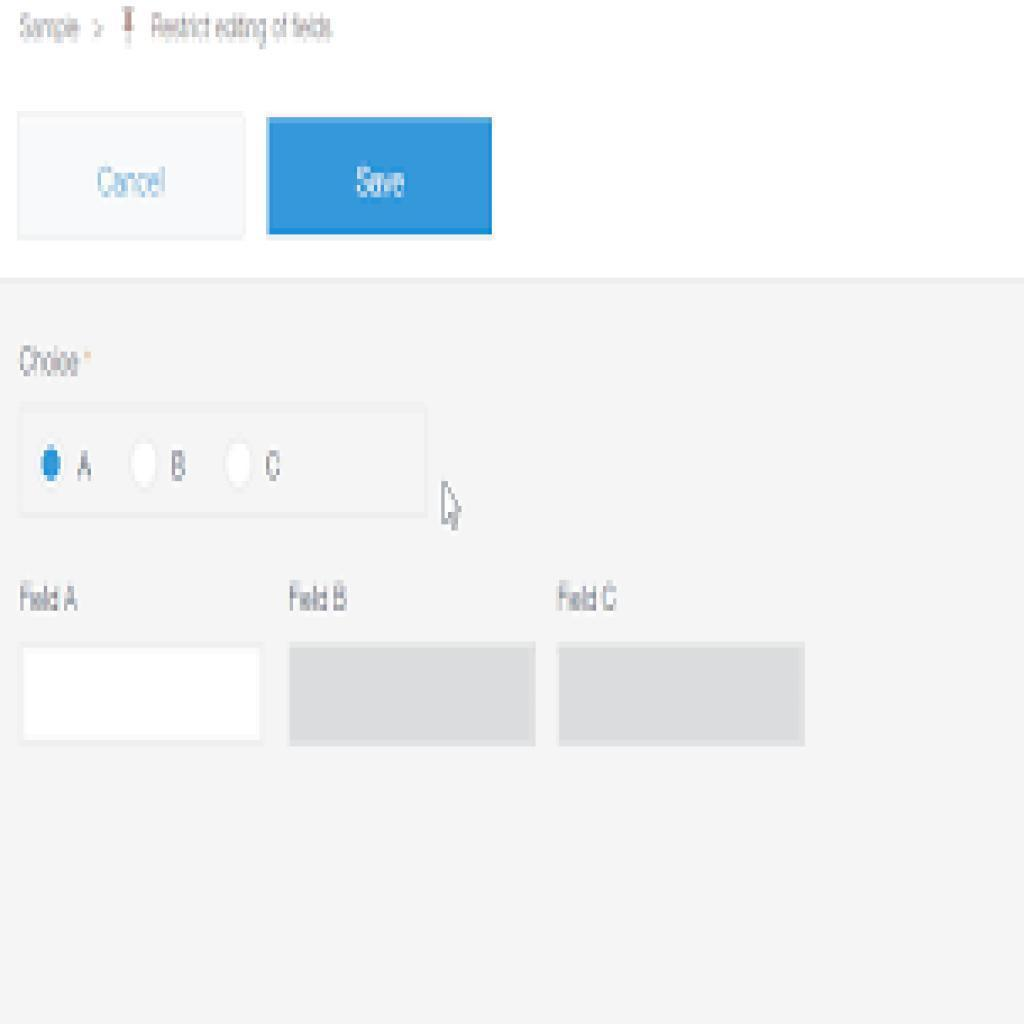button: (16, 110, 246, 237), (269, 116, 493, 237)
input: (291, 643, 537, 747), (555, 643, 800, 740), (20, 648, 267, 740)
radio: (128, 431, 163, 492), (34, 427, 65, 490), (222, 434, 255, 491)
